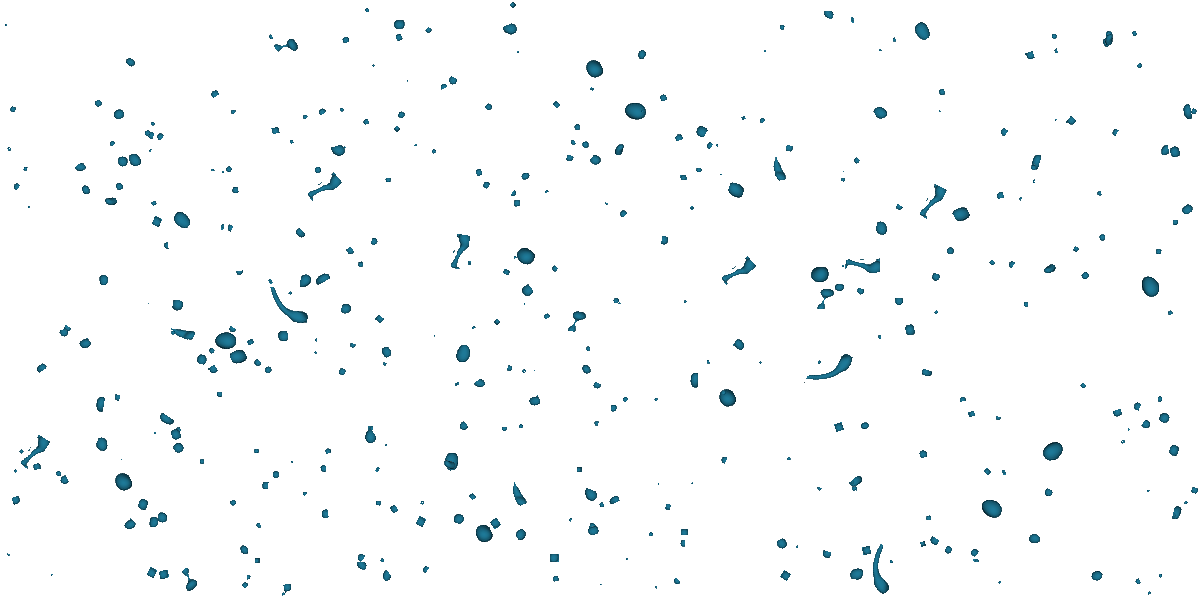Detached ligament: (854, 539, 906, 596), (803, 342, 855, 399), (259, 285, 313, 325), (720, 255, 757, 290), (306, 171, 343, 206), (19, 434, 51, 472), (918, 183, 948, 222), (450, 233, 471, 271), (175, 565, 203, 593), (272, 33, 300, 59), (844, 258, 881, 274), (565, 309, 587, 334), (509, 480, 528, 507), (169, 323, 196, 342), (814, 287, 835, 311), (771, 155, 787, 182)
drop: (620, 96, 652, 128), (211, 326, 242, 357), (977, 494, 1007, 525), (510, 242, 538, 270), (109, 467, 135, 495), (580, 54, 606, 82), (713, 383, 739, 411), (908, 19, 934, 45), (470, 519, 495, 546), (168, 209, 194, 234), (1039, 439, 1065, 463), (1139, 275, 1161, 300), (951, 204, 972, 225), (807, 266, 830, 285), (228, 347, 249, 367), (440, 451, 460, 472), (455, 344, 475, 364), (726, 181, 746, 200), (518, 283, 537, 303), (848, 473, 868, 492), (155, 411, 176, 429), (587, 151, 606, 170), (690, 123, 709, 142), (312, 269, 333, 286), (171, 439, 189, 458), (361, 428, 379, 447), (872, 103, 890, 122), (512, 525, 530, 543), (773, 536, 792, 553), (502, 21, 520, 38), (582, 487, 600, 504), (1171, 503, 1187, 522), (1028, 151, 1043, 171), (94, 436, 111, 453), (77, 336, 94, 353), (122, 517, 139, 534), (102, 193, 119, 210), (1041, 261, 1058, 278), (330, 143, 348, 159), (874, 220, 890, 237), (1157, 410, 1175, 425), (193, 351, 211, 366), (122, 54, 138, 70), (732, 336, 748, 352), (527, 394, 543, 410), (1101, 31, 1117, 47), (452, 511, 469, 526), (93, 394, 106, 413), (1180, 102, 1193, 121), (1089, 568, 1104, 584), (1140, 418, 1156, 433), (454, 420, 470, 435), (849, 566, 865, 581), (128, 152, 143, 168), (72, 161, 88, 176), (378, 567, 393, 583), (471, 377, 487, 392), (1179, 202, 1195, 217), (299, 272, 313, 289), (379, 345, 394, 360), (156, 511, 170, 527), (275, 330, 289, 346), (579, 361, 593, 377), (635, 47, 649, 63), (58, 327, 72, 342), (55, 474, 70, 488), (445, 75, 459, 90), (169, 427, 183, 442), (136, 497, 150, 512), (1167, 443, 1181, 458), (688, 370, 699, 389), (117, 155, 130, 171), (113, 107, 128, 120), (172, 300, 187, 313), (79, 182, 92, 197), (518, 170, 532, 183), (479, 179, 492, 193), (613, 142, 626, 156), (442, 458, 456, 471), (586, 524, 600, 537), (341, 301, 353, 316), (238, 542, 250, 557), (482, 101, 495, 114), (1065, 115, 1078, 128), (207, 86, 220, 99), (353, 550, 366, 563), (112, 180, 125, 193), (1079, 270, 1092, 283), (927, 535, 940, 548), (1099, 36, 1112, 49), (294, 227, 307, 240), (489, 517, 502, 530), (779, 569, 792, 582), (34, 362, 48, 374), (607, 494, 621, 506), (1169, 145, 1181, 159), (1129, 400, 1142, 412), (587, 521, 599, 534), (943, 544, 955, 557), (1111, 408, 1124, 420), (151, 215, 163, 228), (415, 515, 427, 528), (146, 566, 158, 579), (1159, 142, 1170, 156), (832, 282, 846, 293), (1103, 29, 1115, 41), (207, 364, 219, 376), (1024, 50, 1036, 62), (672, 130, 684, 142), (820, 549, 832, 561), (935, 87, 947, 99), (1042, 487, 1054, 499), (833, 421, 845, 433), (859, 420, 872, 431), (894, 297, 905, 310), (393, 19, 406, 30), (98, 274, 109, 287), (148, 516, 159, 529), (920, 368, 934, 378), (660, 235, 671, 247), (158, 569, 170, 580), (338, 35, 351, 45), (821, 10, 834, 20), (354, 561, 367, 571), (894, 203, 905, 214), (312, 164, 323, 175), (396, 110, 407, 121), (154, 131, 165, 142), (617, 208, 628, 219), (316, 106, 327, 117), (252, 358, 263, 369), (11, 495, 22, 506), (258, 480, 269, 491), (419, 564, 430, 575), (703, 140, 714, 151), (671, 577, 682, 588), (62, 324, 73, 335), (850, 156, 861, 167), (548, 264, 559, 275), (424, 26, 435, 37), (998, 127, 1009, 138), (345, 246, 356, 257), (10, 181, 21, 192), (1005, 259, 1016, 270), (227, 325, 238, 336), (969, 547, 980, 558), (756, 114, 767, 125), (106, 137, 117, 148), (228, 498, 239, 509), (239, 579, 250, 590), (930, 272, 941, 283), (93, 98, 104, 109), (861, 545, 872, 556), (905, 324, 915, 336), (1029, 534, 1041, 544), (231, 185, 240, 198), (224, 223, 234, 234), (171, 425, 182, 435), (1109, 127, 1119, 138), (319, 508, 329, 519), (359, 117, 370, 127), (718, 455, 728, 466), (437, 81, 448, 91), (592, 381, 603, 391), (567, 137, 577, 148), (509, 189, 519, 200), (394, 32, 404, 43), (474, 167, 484, 178), (370, 236, 380, 247), (855, 287, 866, 297), (224, 165, 235, 175), (549, 553, 560, 563), (374, 314, 385, 324), (580, 140, 590, 150), (283, 583, 293, 593), (1096, 233, 1106, 243), (611, 295, 621, 305), (658, 93, 668, 103), (337, 367, 347, 377), (299, 112, 309, 122), (227, 107, 237, 117), (389, 504, 399, 514), (994, 191, 1005, 200), (253, 520, 262, 531), (215, 391, 224, 401), (785, 144, 795, 153), (32, 462, 42, 471), (146, 131, 155, 141), (541, 311, 551, 320), (610, 403, 619, 413), (143, 129, 152, 139), (8, 105, 17, 115), (323, 446, 333, 455), (1190, 486, 1200, 495), (1164, 308, 1174, 317), (591, 419, 600, 429), (943, 247, 955, 254), (272, 470, 279, 482), (264, 366, 273, 375), (719, 389, 728, 398), (54, 469, 63, 478), (207, 346, 216, 355), (1133, 577, 1142, 586), (919, 449, 928, 458), (1135, 62, 1144, 71), (271, 126, 280, 135), (983, 467, 992, 476), (552, 100, 561, 109), (468, 492, 477, 501), (319, 464, 327, 474), (678, 539, 686, 549), (1172, 219, 1182, 227), (499, 426, 509, 434), (1155, 248, 1164, 256), (1072, 245, 1080, 254), (597, 500, 605, 509), (149, 200, 158, 208), (513, 199, 521, 208), (1095, 190, 1103, 199), (680, 528, 689, 536), (246, 338, 255, 346), (502, 268, 511, 276), (967, 410, 976, 418), (162, 240, 169, 250), (234, 270, 244, 277), (850, 485, 858, 493), (1130, 29, 1138, 37), (889, 36, 897, 44), (703, 358, 711, 366), (520, 367, 528, 375), (1119, 438, 1127, 446), (5, 145, 13, 153), (1079, 382, 1087, 390), (988, 259, 996, 267), (621, 395, 629, 403), (517, 422, 525, 430), (647, 530, 655, 538), (430, 147, 438, 155), (363, 6, 371, 14), (18, 448, 26, 456), (287, 138, 295, 146), (378, 557, 386, 565), (919, 540, 927, 548), (393, 125, 401, 133), (509, 1, 517, 9), (493, 318, 501, 326), (664, 503, 672, 511), (113, 394, 120, 403), (566, 155, 575, 162), (348, 343, 357, 350), (198, 457, 205, 465), (779, 24, 786, 32), (252, 448, 260, 455), (958, 395, 966, 402), (551, 575, 559, 582), (1050, 33, 1058, 40), (573, 123, 580, 131), (267, 33, 274, 41), (1030, 163, 1037, 171), (357, 260, 364, 268), (381, 361, 388, 369), (932, 309, 940, 316), (384, 177, 392, 184), (374, 500, 382, 507), (584, 346, 591, 354), (1157, 572, 1164, 579), (338, 106, 345, 113), (149, 120, 156, 127), (925, 514, 932, 521), (1022, 301, 1029, 308), (652, 395, 659, 402), (1157, 396, 1164, 403), (695, 167, 702, 174), (301, 490, 308, 497), (170, 329, 177, 336), (22, 165, 29, 172), (267, 278, 274, 285), (374, 466, 381, 473), (576, 466, 583, 473), (254, 557, 261, 564), (680, 174, 687, 181), (419, 499, 425, 506), (1191, 108, 1197, 115), (246, 574, 252, 581), (785, 456, 792, 462), (507, 365, 513, 372), (816, 486, 823, 492), (470, 324, 477, 330), (567, 516, 573, 523), (543, 188, 550, 194), (1001, 469, 1007, 476), (12, 468, 18, 474), (1183, 500, 1189, 506), (280, 591, 286, 597), (1146, 590, 1152, 596), (996, 580, 1002, 586), (5, 552, 11, 558), (603, 201, 609, 207), (147, 147, 153, 153), (757, 360, 763, 366), (383, 442, 389, 448), (289, 459, 295, 465), (370, 63, 376, 69), (714, 142, 720, 148), (25, 204, 31, 210), (623, 556, 629, 562), (515, 50, 521, 56), (689, 205, 695, 211), (454, 381, 460, 387), (589, 86, 595, 92), (1031, 178, 1036, 185), (1145, 489, 1151, 494), (794, 544, 799, 550), (877, 47, 883, 52), (210, 167, 216, 172), (840, 177, 846, 182), (639, 108, 644, 114), (313, 337, 318, 343), (995, 416, 1001, 421), (3, 22, 8, 28), (220, 170, 225, 176), (840, 264, 845, 270), (653, 585, 658, 591), (877, 334, 882, 340), (850, 17, 855, 23), (220, 224, 225, 230), (973, 558, 979, 563), (467, 260, 472, 266), (413, 143, 418, 148), (690, 481, 695, 486), (342, 145, 347, 150), (1054, 48, 1058, 54), (152, 431, 157, 435), (763, 49, 767, 54), (598, 583, 603, 587), (432, 333, 436, 338), (405, 78, 409, 83), (512, 255, 517, 259), (1018, 196, 1022, 201), (313, 351, 318, 355), (656, 481, 660, 486), (1054, 118, 1058, 123), (522, 301, 526, 306), (50, 573, 54, 578), (683, 299, 687, 304), (741, 116, 746, 120), (368, 426, 373, 430), (758, 161, 762, 165), (146, 302, 150, 306), (841, 169, 845, 173), (719, 173, 723, 177), (1127, 427, 1130, 431), (938, 109, 941, 113), (617, 302, 621, 305), (532, 369, 535, 372), (120, 457, 123, 460)
